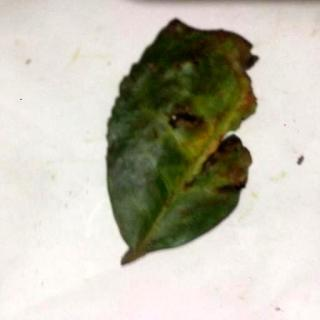Red Leaf Spot: (107, 20, 258, 267)
